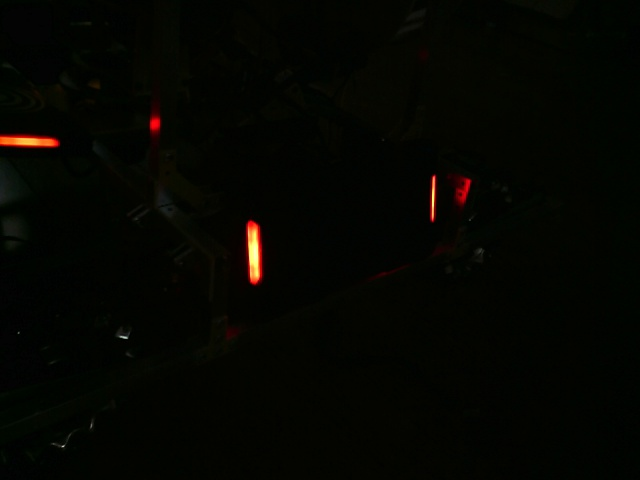lamp: (243, 217, 269, 286), (426, 170, 440, 223)
